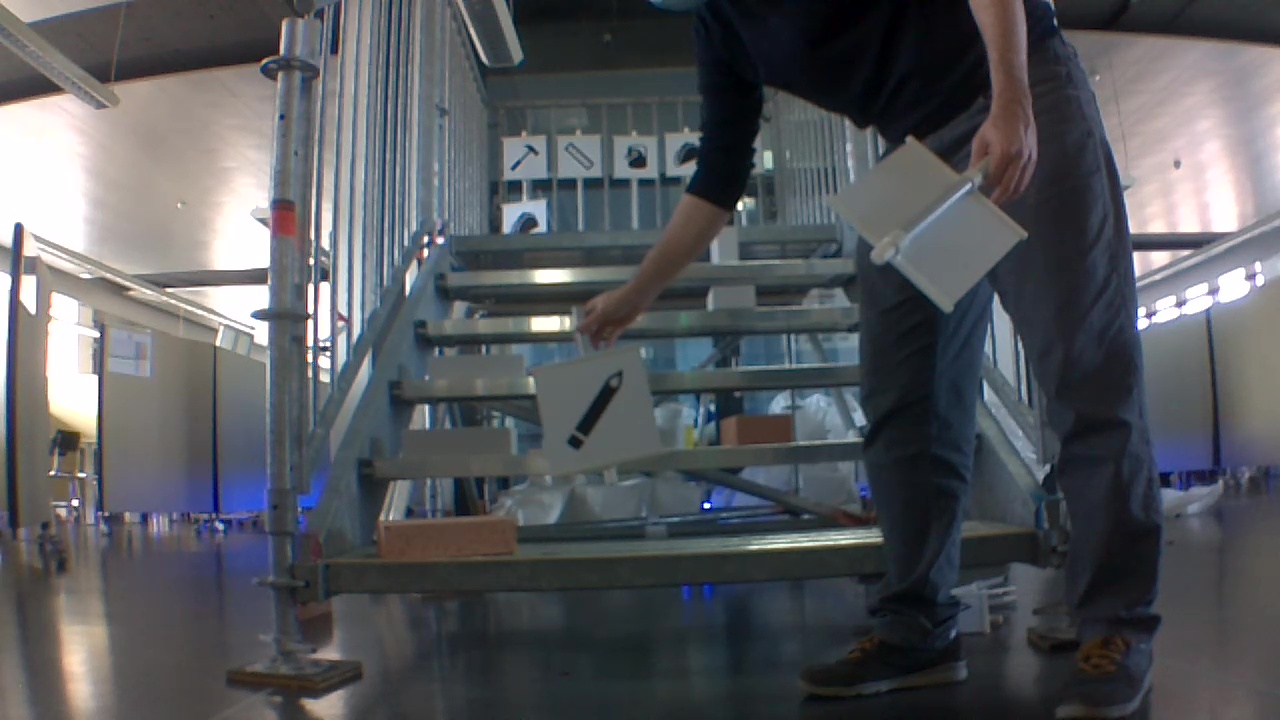brick: (382, 517, 518, 558), (396, 422, 518, 458), (428, 350, 526, 381), (719, 414, 795, 446), (711, 223, 738, 265), (706, 282, 756, 304)
bucket: (624, 140, 649, 173)
edge: (318, 540, 881, 598)
hammer: (508, 143, 542, 175)
pencil: (564, 366, 627, 454)
ruler: (565, 142, 593, 172)
taco: (503, 208, 542, 235), (676, 137, 698, 165)
